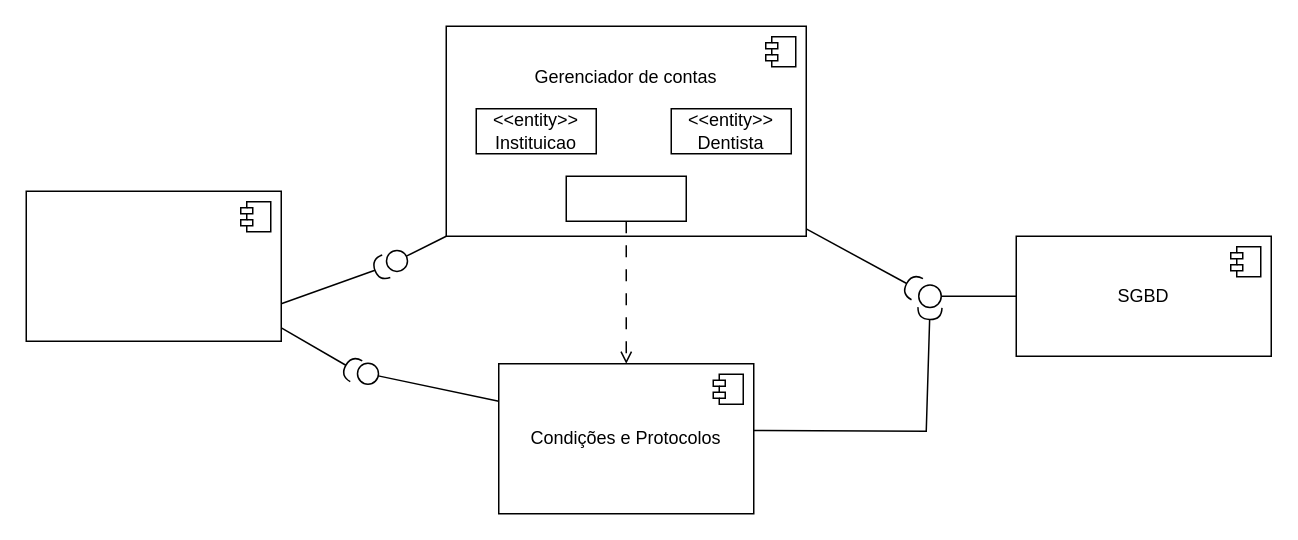
Some shapes in this 1298 by 540 pixel diagram are drawn without their labels. The centre of each missing label's shape, as x and y in pixels:
"<<entity>> Paciente" belongs at point 625,198.
"Interface Gráfica" belongs at point 153,265.
